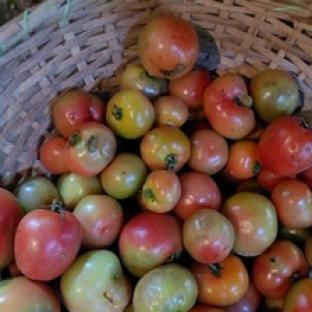Tomato: (14, 208, 82, 281), (60, 250, 132, 311), (119, 211, 183, 277), (138, 16, 199, 79), (221, 191, 278, 256), (257, 111, 311, 176), (204, 74, 256, 139), (251, 240, 309, 298), (190, 254, 249, 306), (133, 264, 197, 311), (183, 208, 233, 264), (65, 122, 116, 176), (73, 194, 123, 249), (248, 69, 299, 122), (52, 90, 105, 137), (106, 90, 154, 139), (173, 172, 221, 220), (140, 126, 190, 172), (99, 152, 147, 199), (0, 276, 61, 311), (271, 179, 311, 228), (0, 189, 23, 270), (138, 170, 181, 213), (169, 67, 211, 111), (189, 129, 228, 175), (13, 175, 59, 213), (56, 173, 103, 210), (120, 63, 168, 98), (225, 140, 260, 179), (225, 279, 261, 311), (39, 136, 68, 174), (154, 95, 189, 126), (283, 278, 311, 311), (257, 168, 288, 192), (303, 233, 311, 267), (299, 166, 311, 188), (190, 304, 225, 311)
